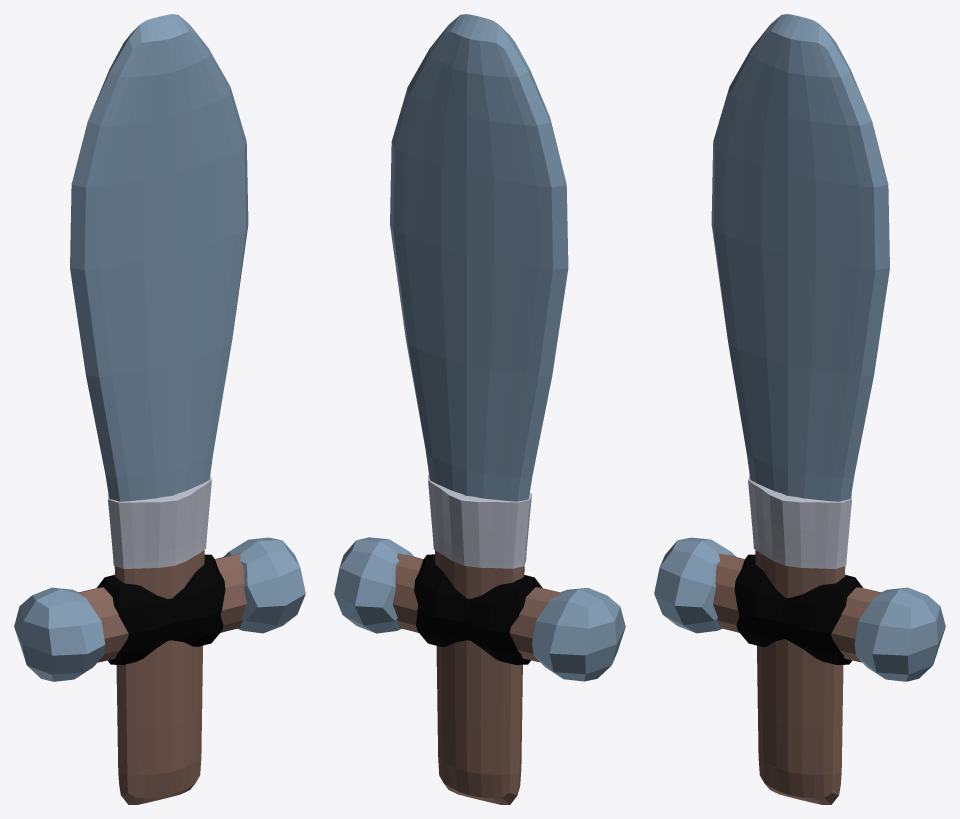
File: KnightSword.fbx
The picture shows the model from 3 angles, left to right: view 1: azimuth 30°, elevation 25°; view 2: azimuth 150°, elevation 25°; view 3: azimuth 330°, elevation 25°; orthographic projection.
Visible parts, largest first — view 1: Sword; view 2: Sword; view 3: Sword.
Part boxes in pixels (<box>): Sword: <box>14,14,305,804</box>; Sword: <box>334,14,625,804</box>; Sword: <box>654,14,945,804</box>.
Size of the model in its own units: 30.45 by 82.96 by 10.43.
